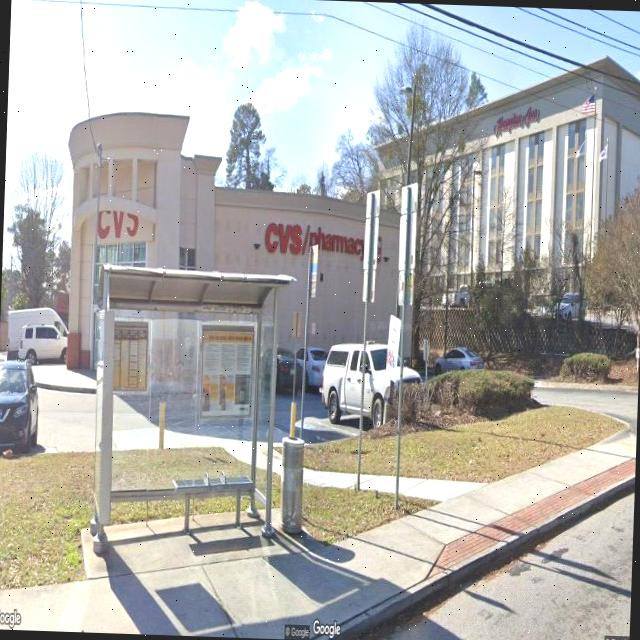seating: (171, 470, 255, 534)
shelter: (85, 263, 298, 561)
trash_can: (280, 433, 306, 531)
